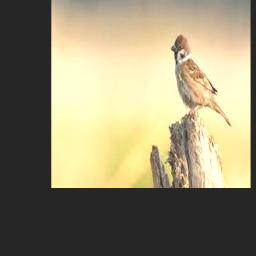Sparrow: (171, 34, 232, 127)
